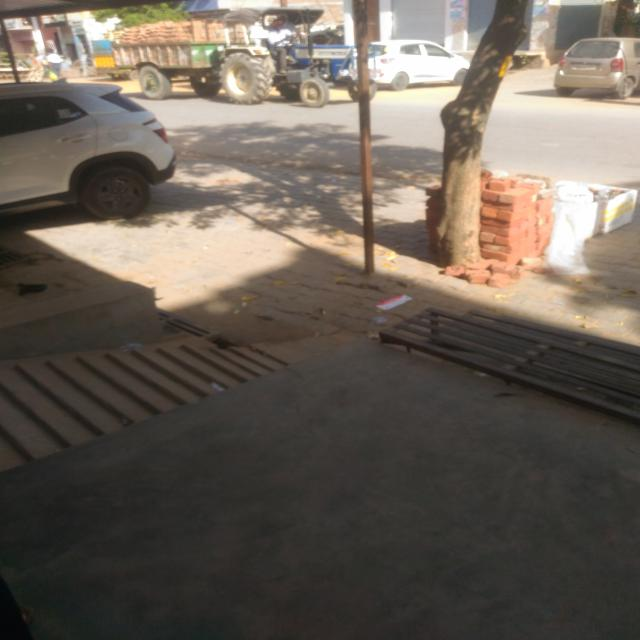Car: (3, 78, 172, 216), (354, 28, 470, 102), (548, 33, 640, 112)
tractor: (101, 0, 375, 108)
